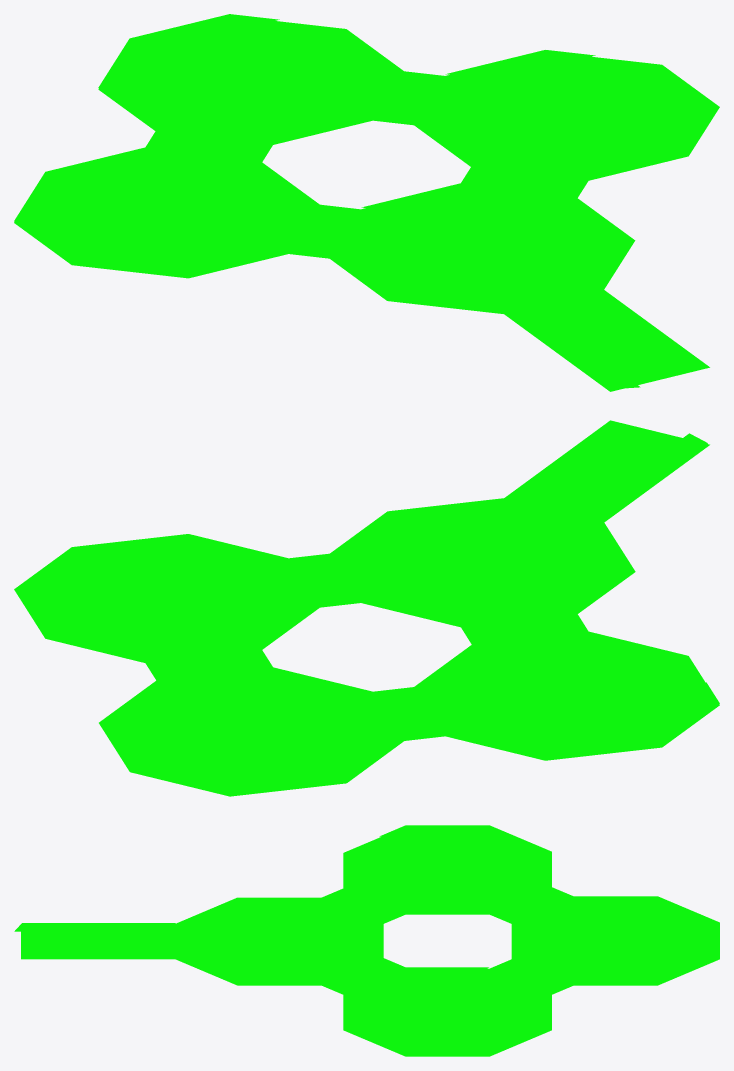
Rendered from s07a_na1-floor.glb.
3 renders of one model, top to bottom at view 1: azimuth 30°, elevation 25°; view 2: azimuth 150°, elevation 25°; view 3: azimuth 270°, elevation 25°, orthographic. The views are drawn at different scales.
Visible parts, largest first — view 1: collision_floor-colonly; view 2: collision_floor-colonly; view 3: collision_floor-colonly.
Part boxes in pixels (x1,y1,x2,y2): collision_floor-colonly: (14,14,719,391); collision_floor-colonly: (14,420,719,796); collision_floor-colonly: (14,825,719,1056).
Size of the model in its own units: 38.86 by 0.0996 by 50.39.
